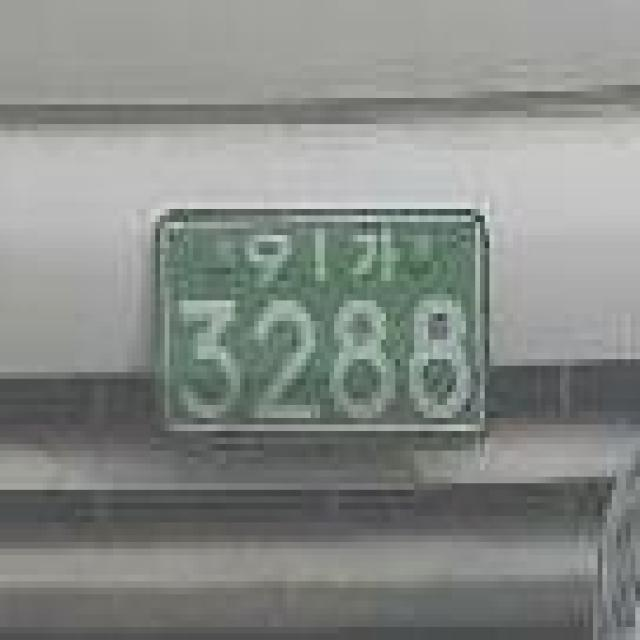illegal_plate: (139, 194, 504, 459)
